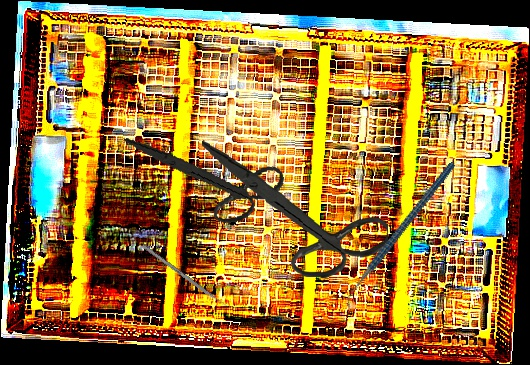Chopper: (310, 161, 491, 313)
Iris Scissors: (195, 140, 393, 281), (124, 112, 290, 239)
Pusher: (141, 243, 234, 313)
